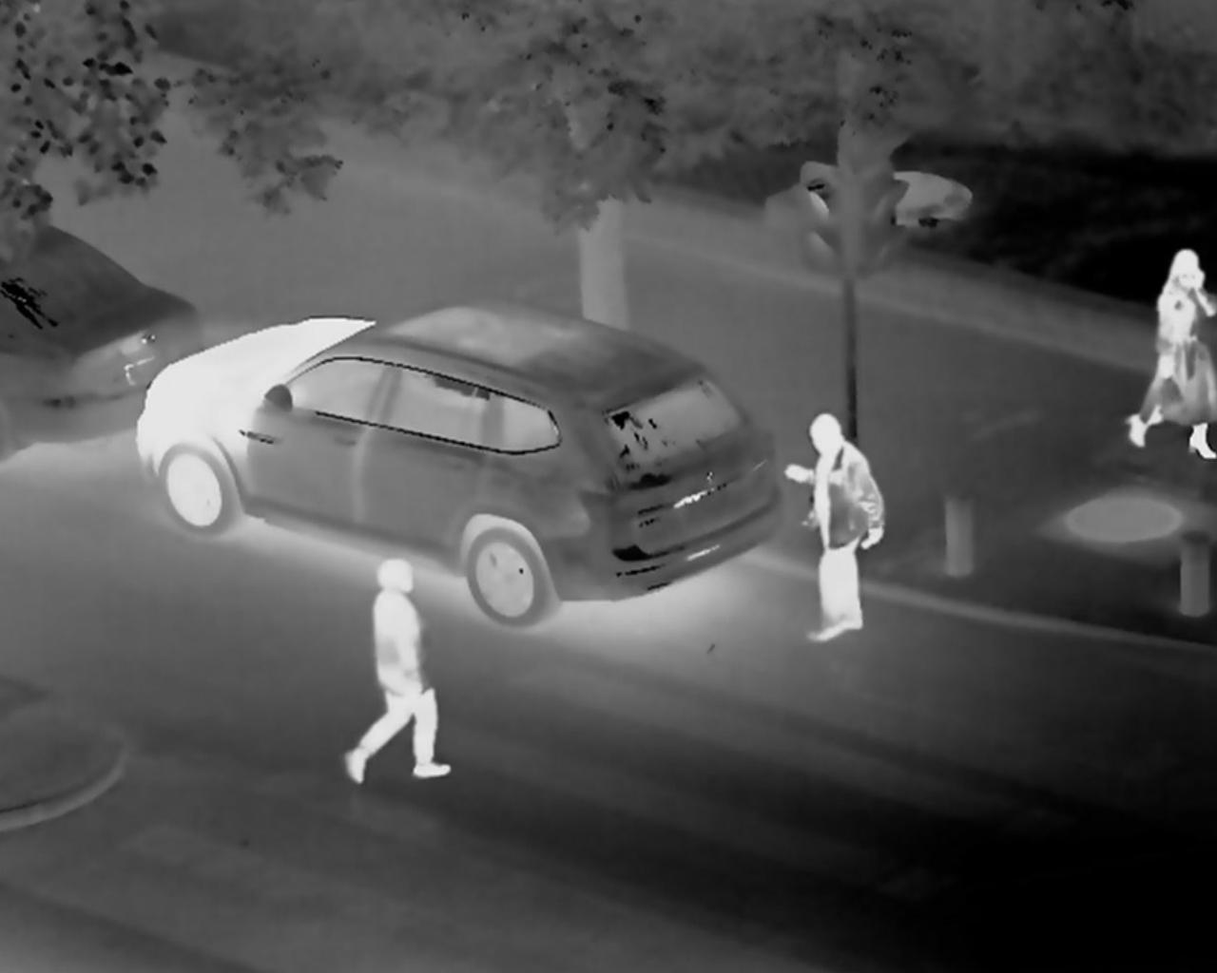person: (338, 546, 457, 791), (783, 406, 892, 639), (1134, 241, 1217, 427)
